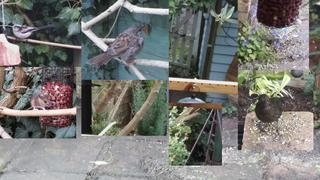blackbird: (254, 94, 289, 138)
dunnock: (86, 24, 145, 68)
long tailed tit: (11, 24, 57, 42)
mouse: (16, 91, 52, 118)
